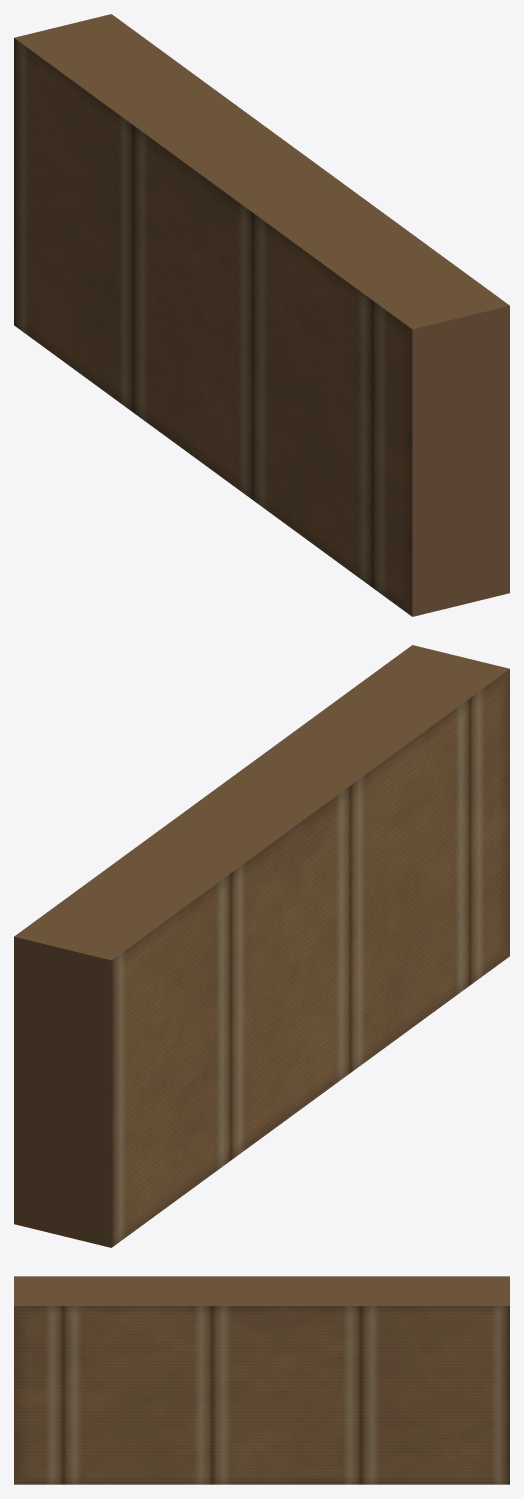
Rendered from cardboard_wall.glb.
3 renders of one model, top to bottom at view 1: azimuth 30°, elevation 25°; view 2: azimuth 150°, elevation 25°; view 3: azimuth 270°, elevation 25°, orthographic. The views are drawn at different scales.
Parts seen in each view (by area): view 1: cardboard_wall; view 2: cardboard_wall; view 3: cardboard_wall.
Boxes of the visible parts, box(x1,y1,x2,y2) form: cardboard_wall: box(14, 14, 509, 616); cardboard_wall: box(14, 645, 509, 1247); cardboard_wall: box(14, 1276, 509, 1484).
Bounding box in the file's own units: 4.1 × 11.55 × 29.02.
1 material, 1 textured.
